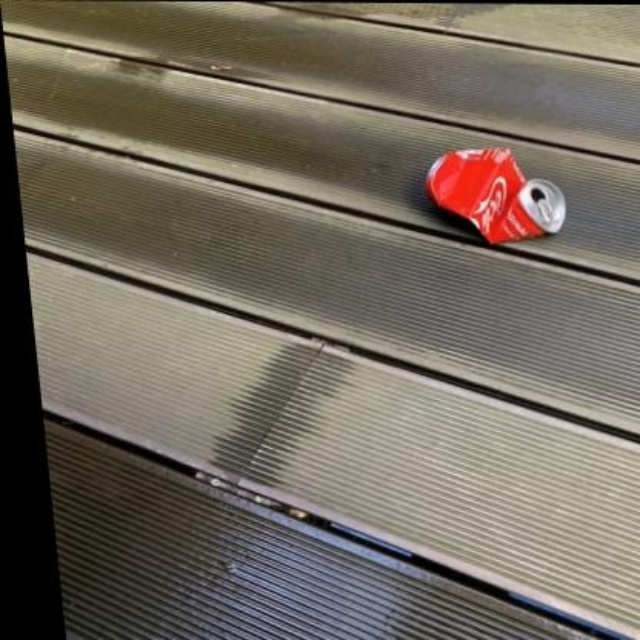trash: (426, 148, 565, 243)
